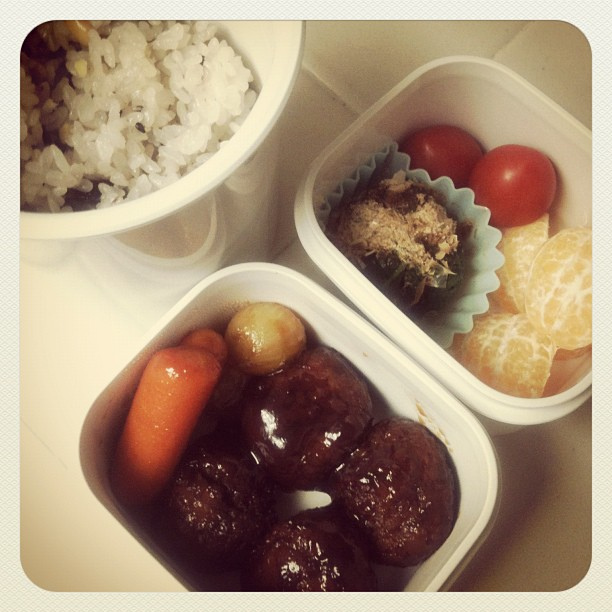meatballs: (235, 361, 381, 462), (366, 421, 440, 547), (172, 456, 264, 552), (263, 522, 359, 588)
plain rice: (17, 24, 240, 204)
